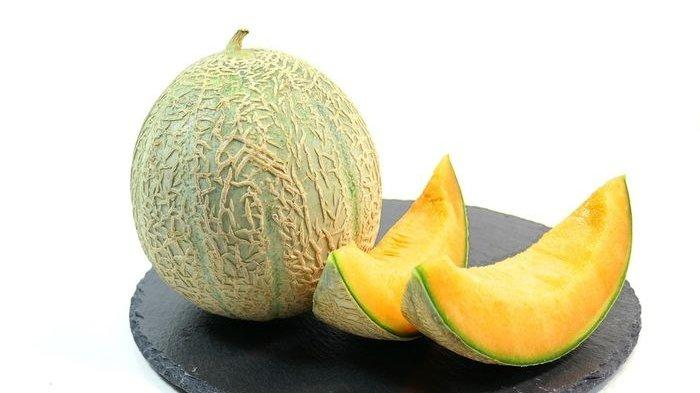Melon: (424, 172, 648, 365), (334, 135, 491, 343)
